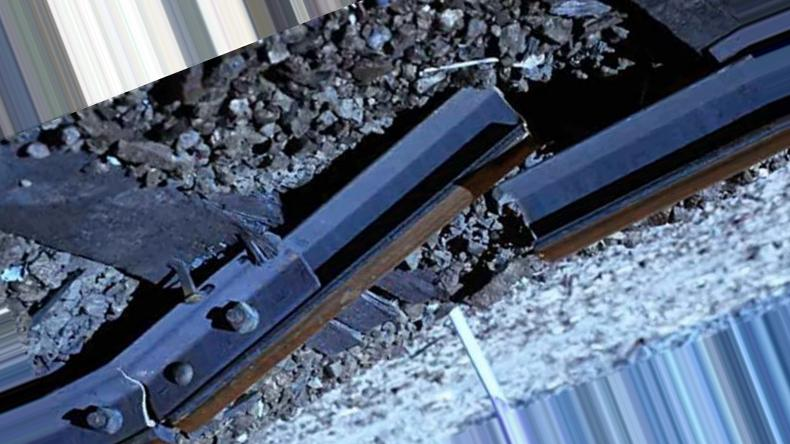tracks_fault: (83, 75, 640, 437)
